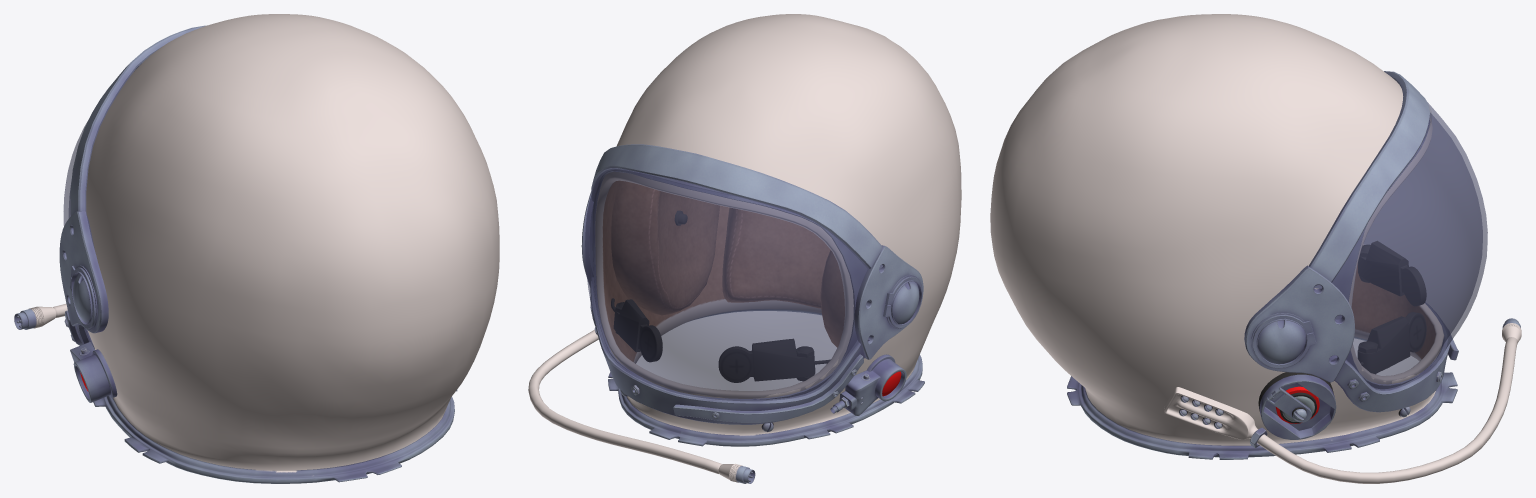
The picture shows the model from 3 angles, left to right: view 1: azimuth 30°, elevation 25°; view 2: azimuth 150°, elevation 25°; view 3: azimuth 270°, elevation 25°; orthographic projection. The views are drawn at different scales.
Visible parts, largest first — view 1: helmet_0, ears_3, round1_1, thing_l_8, thing_r_4, ears_round_6; view 2: helmet_0, face_hidder_5, round1_1, helmet.001_10, Plane_9, ears_3, helmet.002_11, thing_r_4, round2_2, thing_l_8, round1.001_12, ears_round_6; view 3: helmet_0, face_hidder_5, round1_1, ears_3, thing_r_4, helmet.002_11, thing_r_1_7, round2_2, ears_round_6.
Part boxes in pixels (box(x1,y1,x2,y2)): helmet_0: box(86, 14, 499, 483); ears_3: box(59, 211, 108, 333); round1_1: box(70, 25, 207, 348); thing_l_8: box(70, 342, 117, 402); thing_r_4: box(14, 304, 67, 329); ears_round_6: box(70, 265, 97, 329); helmet_0: box(595, 14, 961, 446); face_hidder_5: box(585, 169, 868, 400); round1_1: box(590, 144, 882, 424); helmet.001_10: box(611, 181, 844, 347); Plane_9: box(621, 181, 830, 308); ears_3: box(581, 191, 923, 359); helmet.002_11: box(611, 298, 830, 382); thing_r_4: box(528, 330, 755, 483); round2_2: box(593, 169, 867, 399); thing_l_8: box(830, 354, 906, 415); round1.001_12: box(673, 354, 863, 422); ears_round_6: box(883, 275, 922, 329); helmet_0: box(990, 14, 1457, 459); face_hidder_5: box(1332, 102, 1487, 390); round1_1: box(1309, 71, 1450, 412); ears_3: box(1244, 265, 1354, 382); thing_r_4: box(1164, 318, 1521, 483); helmet.002_11: box(1358, 241, 1426, 373); thing_r_1_7: box(1258, 372, 1336, 439); round2_2: box(1331, 119, 1437, 389); ears_round_6: box(1251, 313, 1316, 368).
Bounding box in the file's own units: 3.76 × 3.57 × 4.75.
5 materials, 5 textured.
